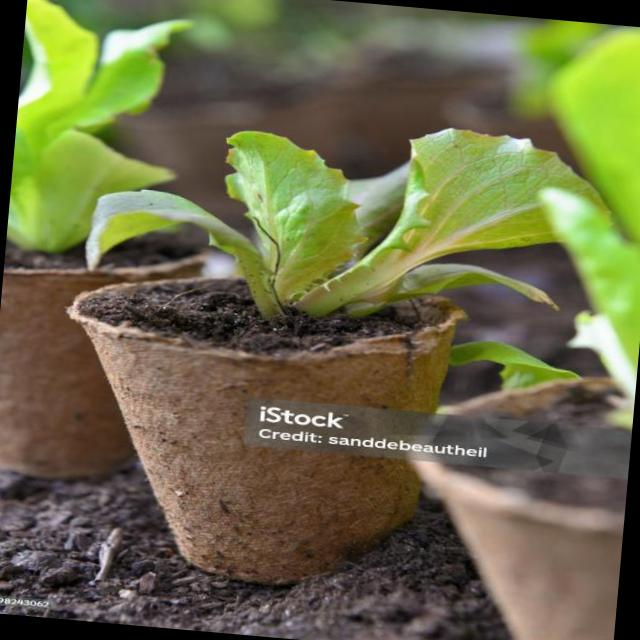Lettuce-Not-Ready-to-Harvest: (84, 128, 611, 320), (6, 0, 197, 255)
